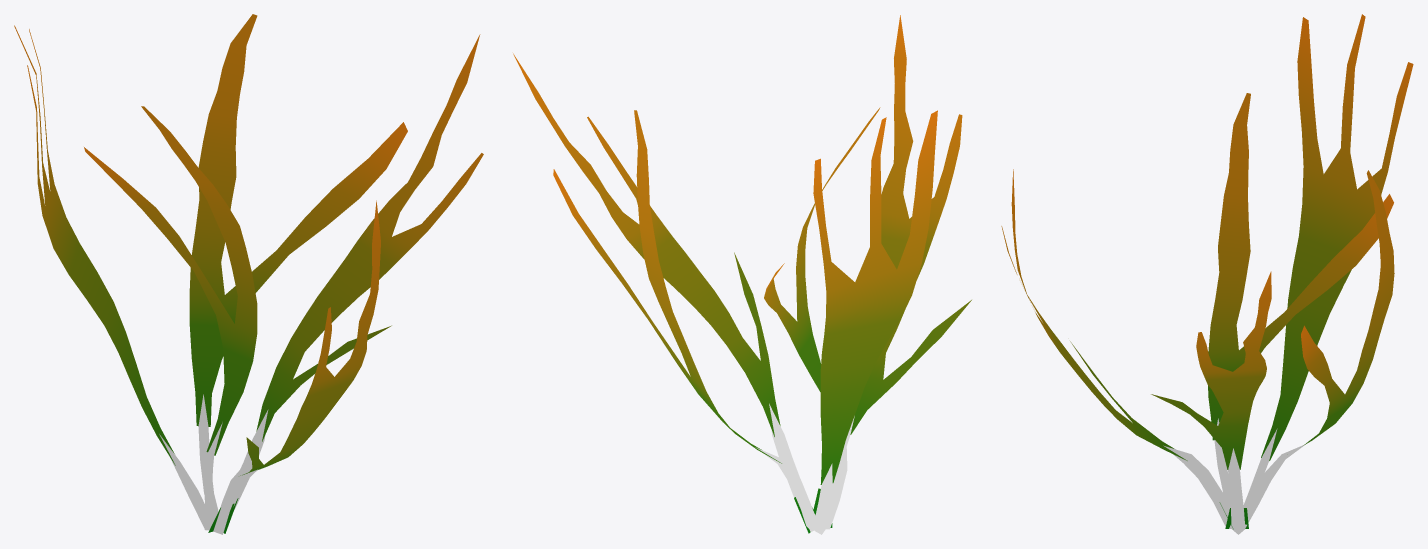
Rendered from sjglk_Var3_LOD0.fbx.
The picture shows the model from 3 angles, left to right: view 1: azimuth 30°, elevation 25°; view 2: azimuth 150°, elevation 25°; view 3: azimuth 270°, elevation 25°; orthographic projection. The views are drawn at different scales.
Parts seen in each view (by area): view 1: _9a02_Var3_LOD0; view 2: _9a02_Var3_LOD0; view 3: _9a02_Var3_LOD0.
Boxes of the visible parts, x1,y1,x2,y2 form: _9a02_Var3_LOD0: (14, 14, 483, 534); _9a02_Var3_LOD0: (513, 15, 971, 534); _9a02_Var3_LOD0: (1001, 14, 1413, 534).
Size of the model in its own units: 47.59 by 51.25 by 41.99.
